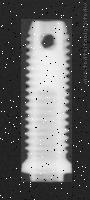Nobel Biocare: (21, 19, 72, 182)
